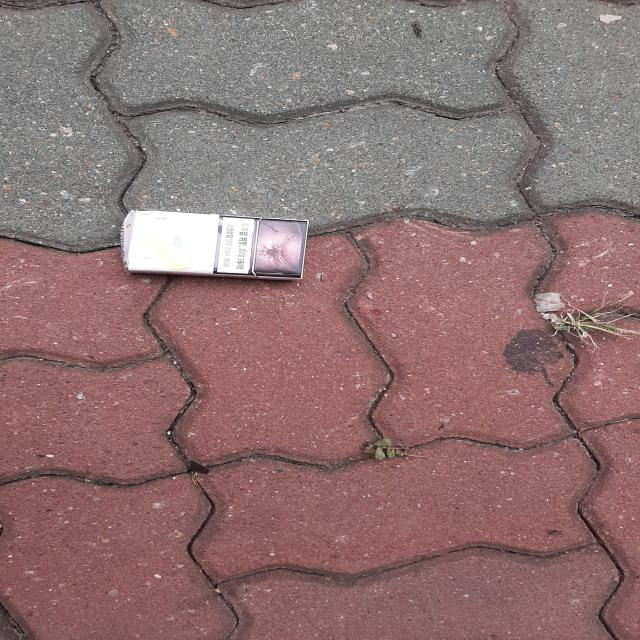litter: (126, 212, 311, 279)
